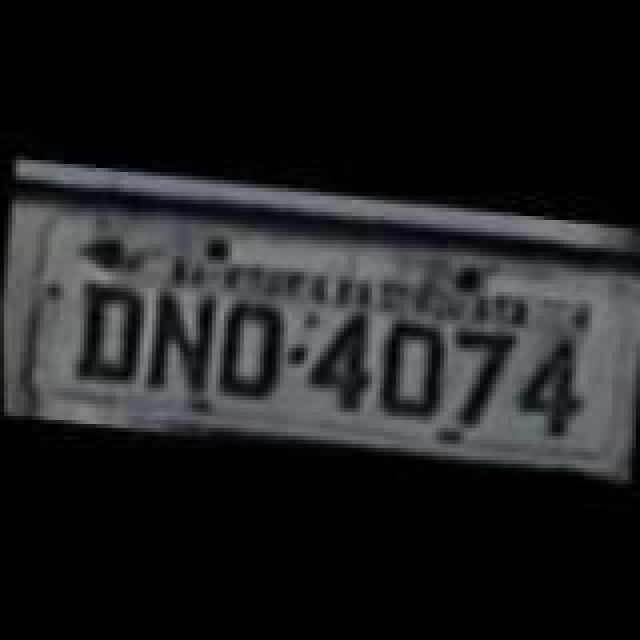4: (300, 302, 384, 422), (510, 326, 594, 442)
7: (436, 324, 512, 428)
D: (74, 274, 154, 390)
N: (142, 282, 222, 398)
O: (372, 312, 448, 424), (214, 296, 286, 408)
